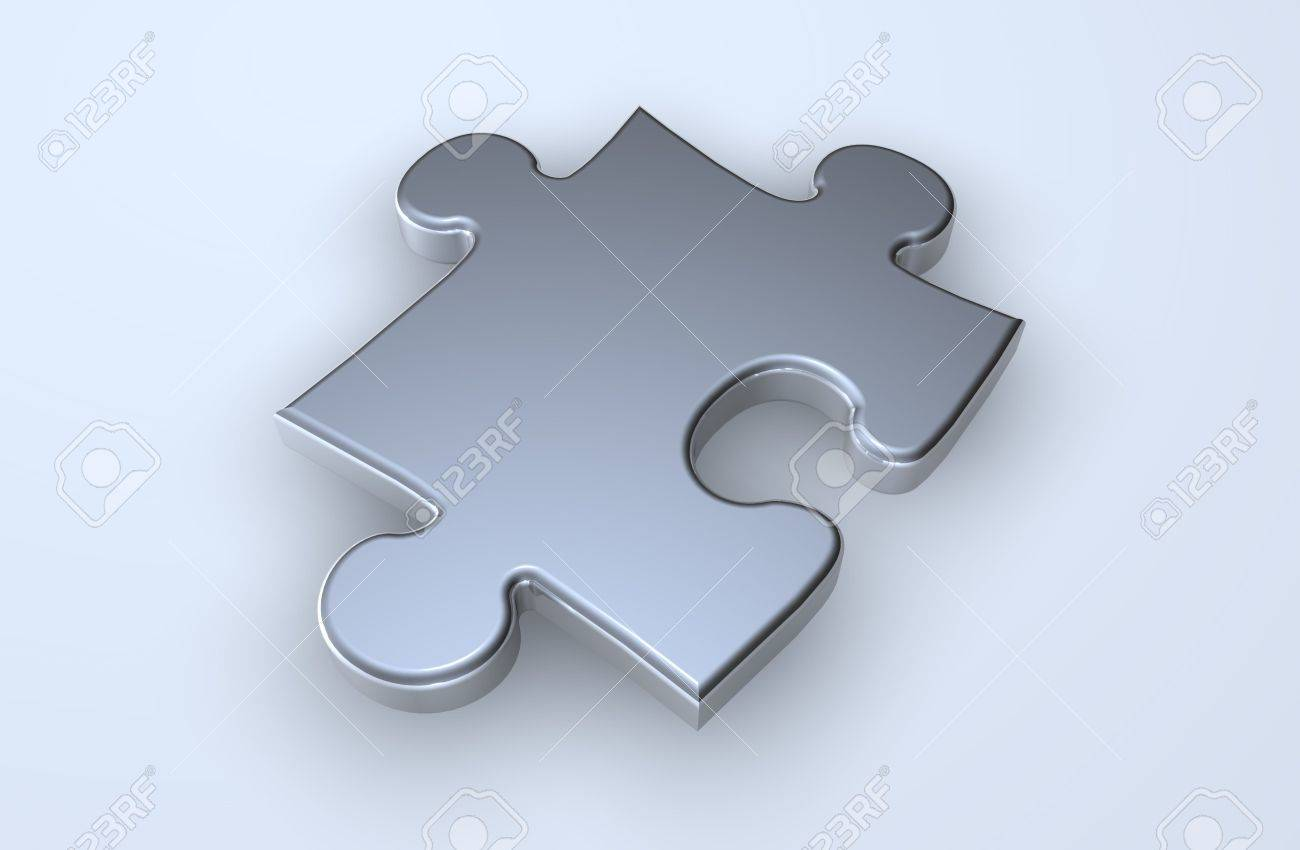puzzle piece: (244, 76, 1089, 759)
